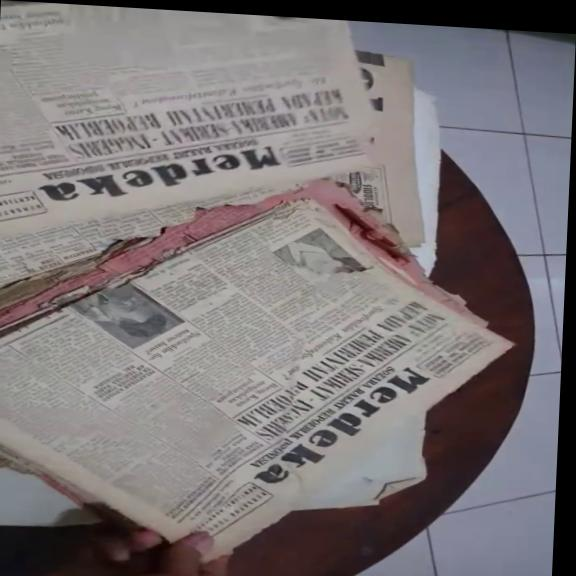Kertas: (0, 169, 388, 502), (0, 1, 396, 265)
